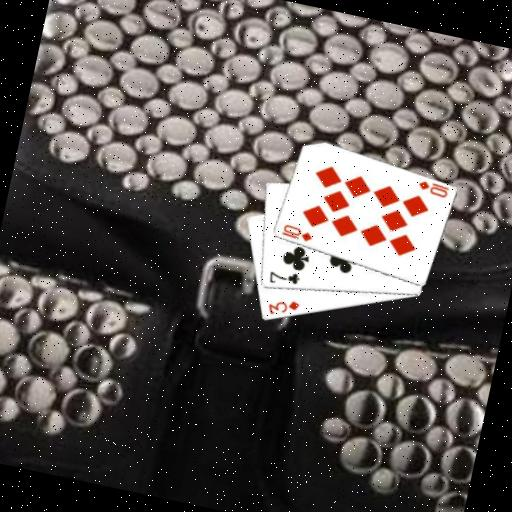10D: (413, 176, 451, 200), (278, 220, 315, 244)
3D: (263, 293, 302, 322)
7C: (264, 265, 301, 290)
